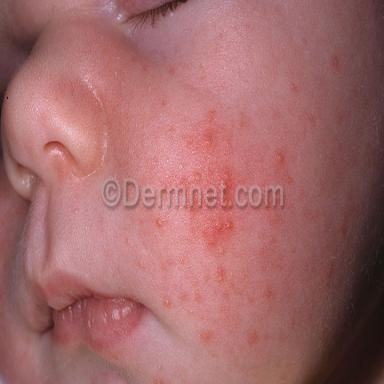acne: (330, 54, 339, 70), (204, 130, 213, 146), (276, 150, 284, 165), (163, 297, 172, 309), (194, 170, 202, 182), (290, 83, 298, 93), (225, 220, 233, 229), (216, 266, 223, 276), (156, 218, 163, 227), (216, 220, 221, 228), (225, 172, 229, 178)
